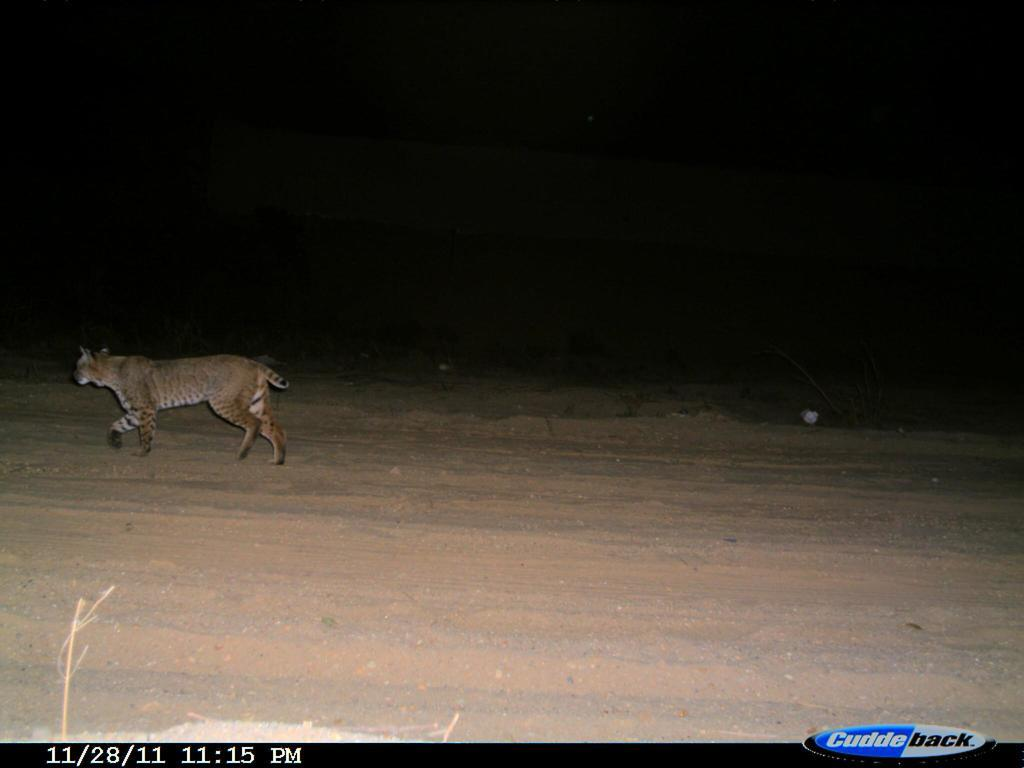bobcat: (61, 324, 306, 473)
